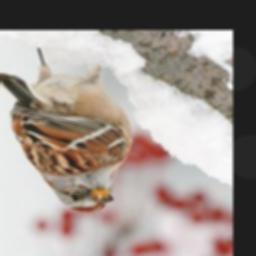Sparrow: (0, 45, 134, 213)
